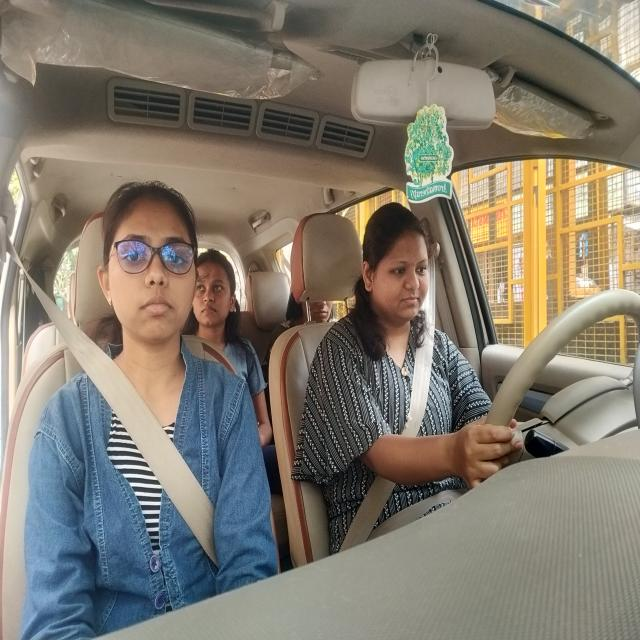person: (97, 180, 199, 349), (195, 243, 242, 337)
